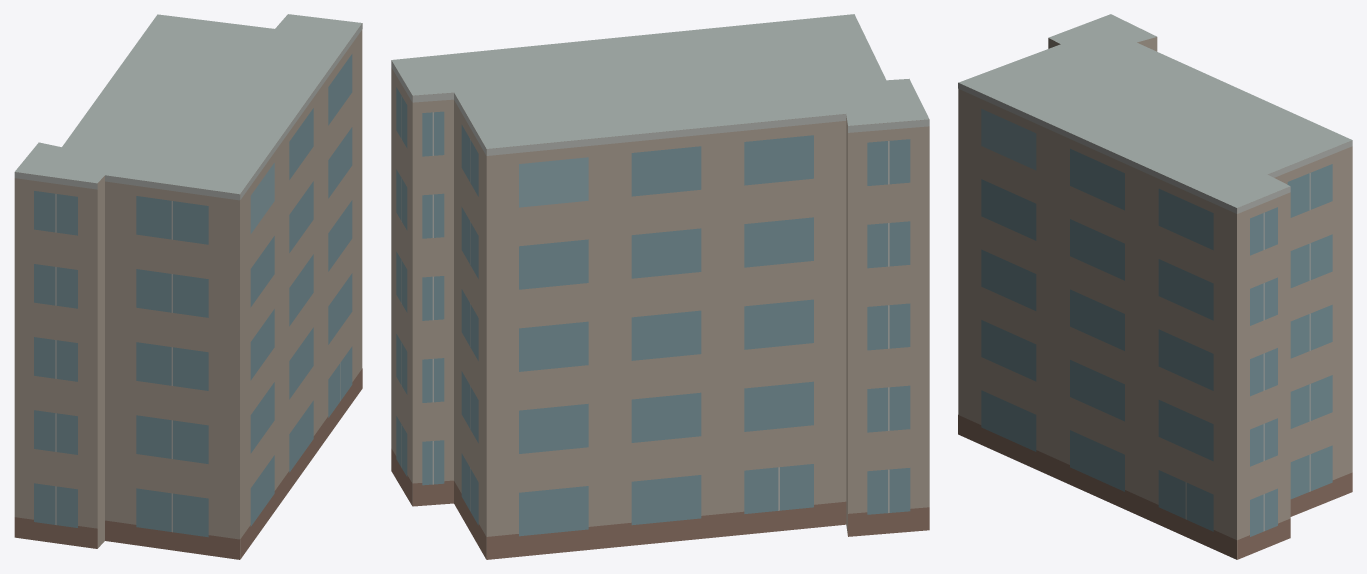
File: survey-upis-32885695.glb
3 renders of one model, left to right at view 1: azimuth 30°, elevation 25°; view 2: azimuth 150°, elevation 25°; view 3: azimuth 270°, elevation 25°, orthographic. The views are drawn at different scales.
Parts seen in each view (by area): view 1: survey-upis-32885695.tmp; view 2: survey-upis-32885695.tmp; view 3: survey-upis-32885695.tmp.
Part boxes in pixels (left/top/right/bottom): survey-upis-32885695.tmp: left=14, top=14, right=362, bottom=559; survey-upis-32885695.tmp: left=391, top=14, right=929, bottom=559; survey-upis-32885695.tmp: left=958, top=14, right=1352, bottom=559.
Bounding box in the file's own units: 16.93 × 14.3 × 14.54.
